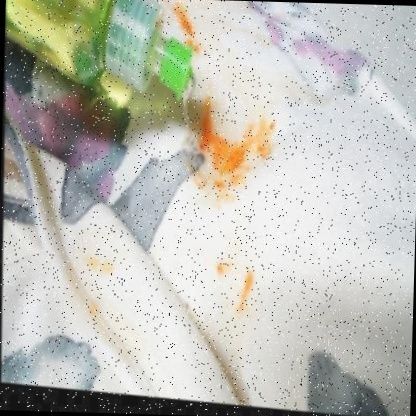kimchi: (191, 122, 281, 200), (230, 268, 262, 326), (172, 4, 196, 38), (198, 99, 222, 128), (84, 252, 111, 274), (212, 262, 229, 281), (192, 40, 203, 53), (87, 303, 95, 317)
